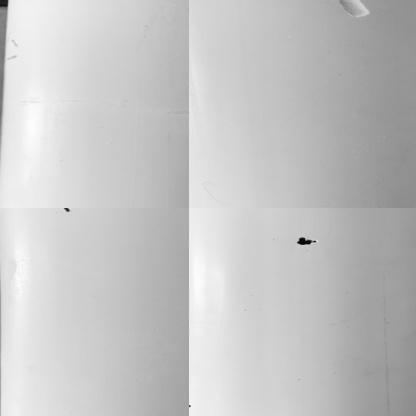kongdong: (295, 234, 320, 249), (61, 206, 71, 213)
sunshang: (336, 1, 370, 18)
